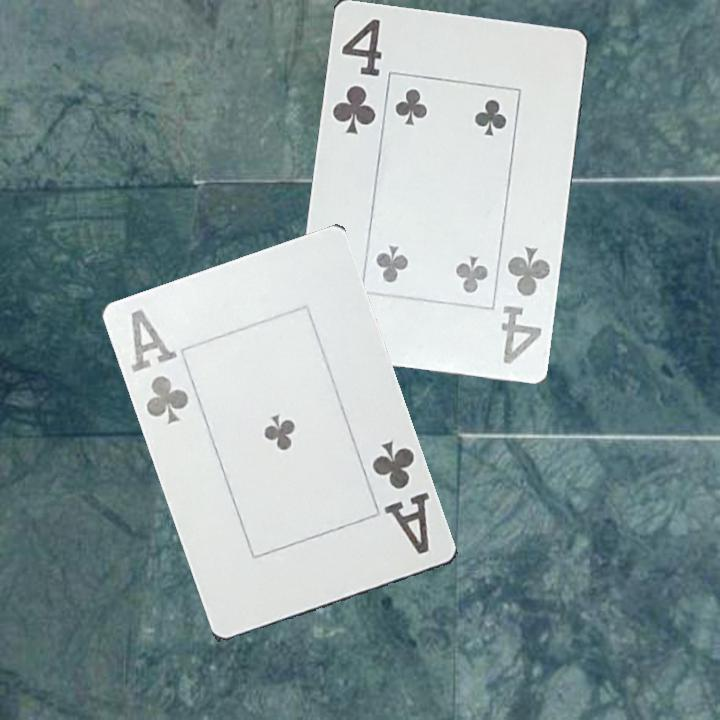4c: (328, 15, 385, 137), (497, 242, 553, 366)
Ac: (127, 305, 193, 428), (369, 436, 434, 558)
